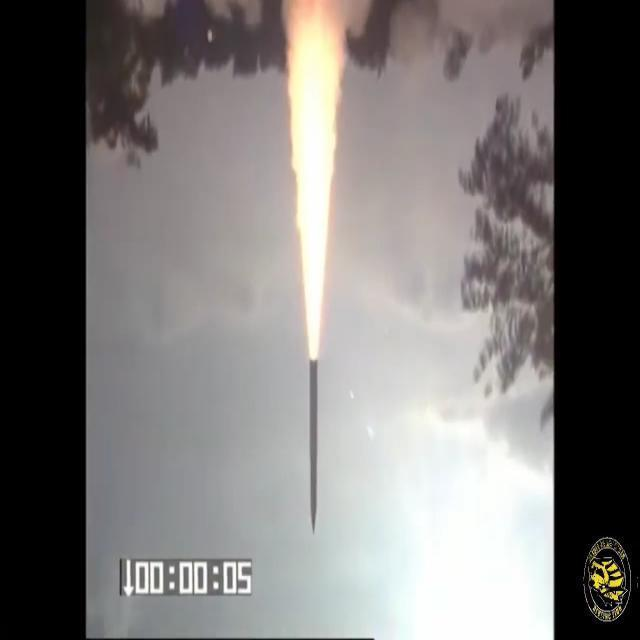missile: (299, 357, 326, 529)
